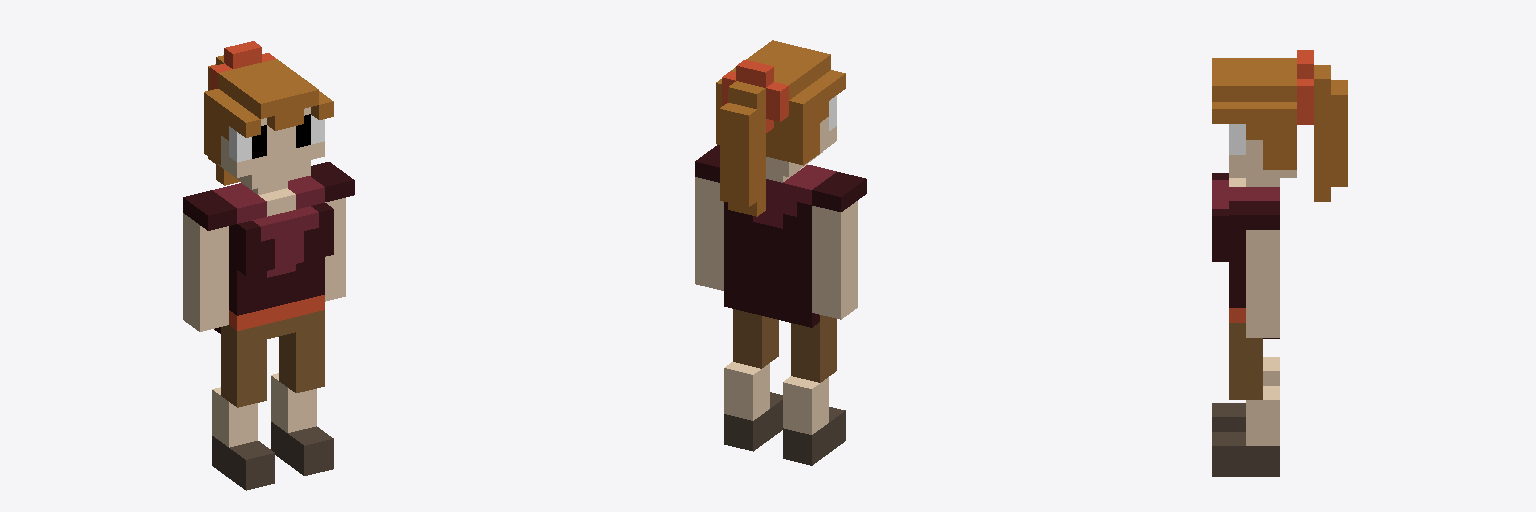
3 views of the same model, side by side, from view 1: azimuth 30°, elevation 25°; view 2: azimuth 150°, elevation 25°; view 3: azimuth 270°, elevation 25° (orthographic).
Size of the model in its own units: 10 by 26 by 8.
1 materials, 1 textured.